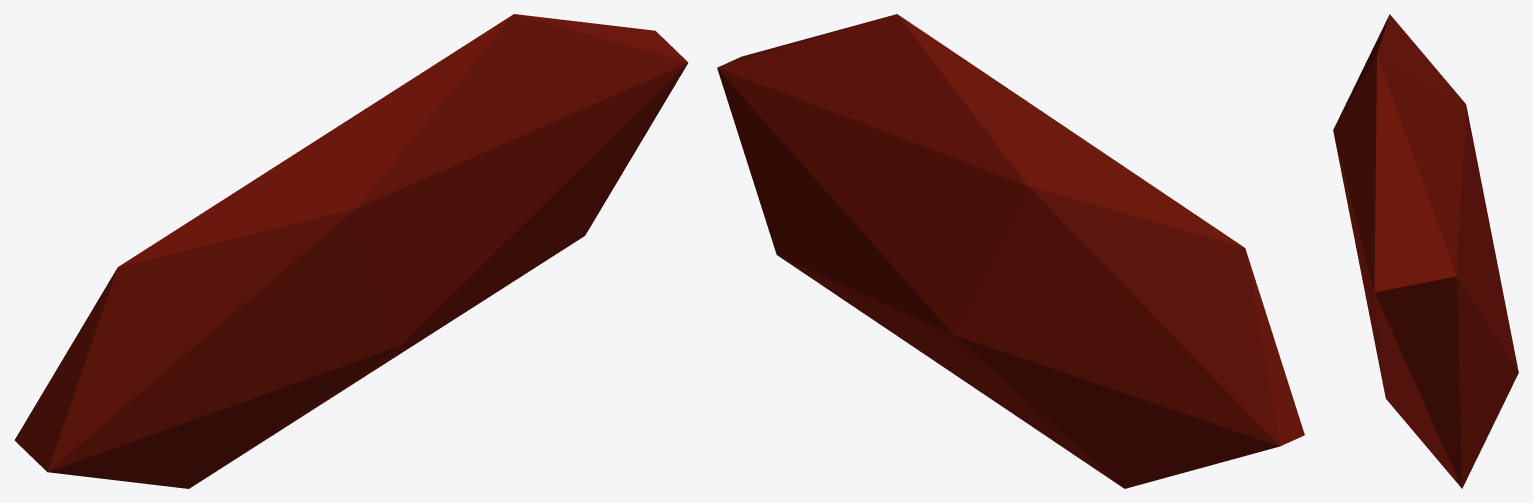
Rendered from Platonic_6.gltf.
3 renders of one model, left to right at view 1: azimuth 30°, elevation 25°; view 2: azimuth 150°, elevation 25°; view 3: azimuth 270°, elevation 25°, orthographic. The views are drawn at different scales.
Visible parts, largest first — view 1: Platonic_6; view 2: Platonic_6; view 3: Platonic_6.
Part boxes in pixels (bbox=[...]): Platonic_6: bbox=[14, 14, 688, 488]; Platonic_6: bbox=[717, 14, 1304, 488]; Platonic_6: bbox=[1333, 14, 1518, 488].
Size of the model in its own units: 21.09 by 13.65 by 3.93.
